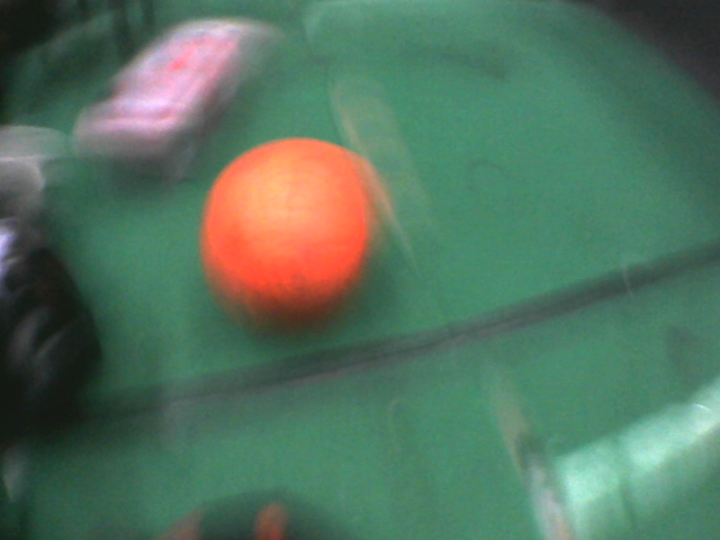bola: (190, 129, 406, 334)
